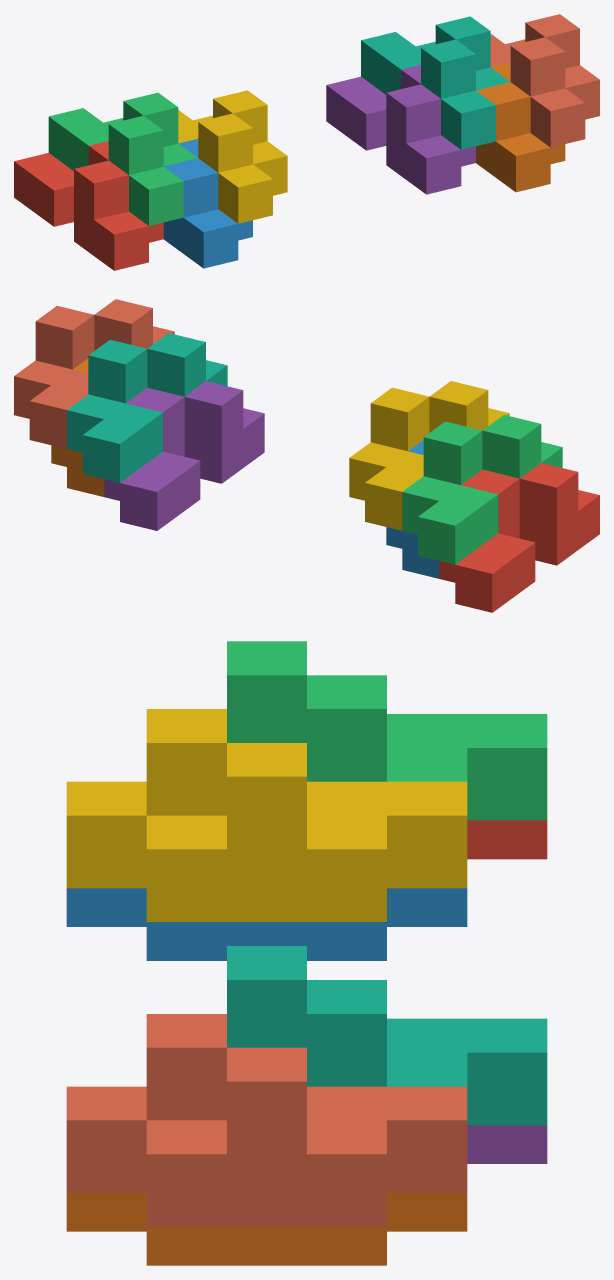
Rendered from tiling.obj.
3 renders of one model, top to bottom at view 1: azimuth 30°, elevation 25°; view 2: azimuth 150°, elevation 25°; view 3: azimuth 270°, elevation 25°, orthographic. The views are drawn at different scales.
Parts seen in each view (by area): view 1: copy_1_domain_1, copy_1_domain_5, copy_1_domain_3, copy_1_domain_7, copy_1_domain_8, copy_1_domain_4, copy_1_domain_2, copy_1_domain_6; view 2: copy_1_domain_5, copy_1_domain_1, copy_1_domain_3, copy_1_domain_7, copy_1_domain_4, copy_1_domain_8, copy_1_domain_6, copy_1_domain_2; view 3: copy_1_domain_4, copy_1_domain_8, copy_1_domain_7, copy_1_domain_3, copy_1_domain_6, copy_1_domain_2, copy_1_domain_1, copy_1_domain_5.
Part boxes in pixels (x1,y1,x2,y2): copy_1_domain_1: (14,141,163,270); copy_1_domain_5: (326,65,475,194); copy_1_domain_3: (48,92,197,225); copy_1_domain_7: (361,16,509,149); copy_1_domain_8: (490,14,599,147); copy_1_domain_4: (178,90,287,223); copy_1_domain_2: (163,139,252,268); copy_1_domain_6: (476,62,565,192); copy_1_domain_5: (104,381,264,530); copy_1_domain_1: (439,463,599,612); copy_1_domain_3: (402,415,562,564); copy_1_domain_7: (67,333,227,482); copy_1_domain_4: (349,381,509,530); copy_1_domain_8: (14,299,174,448); copy_1_domain_6: (51,358,104,496); copy_1_domain_2: (386,440,439,578); copy_1_domain_4: (66,709,467,921); copy_1_domain_8: (66,1014,467,1226); copy_1_domain_7: (227,946,547,1125); copy_1_domain_3: (227,641,547,820); copy_1_domain_6: (66,1193,467,1265); copy_1_domain_2: (66,888,467,960); copy_1_domain_1: (467,820,547,859); copy_1_domain_5: (467,1125,547,1163).
Bounding box in the file's own units: 14 × 3 × 6.
